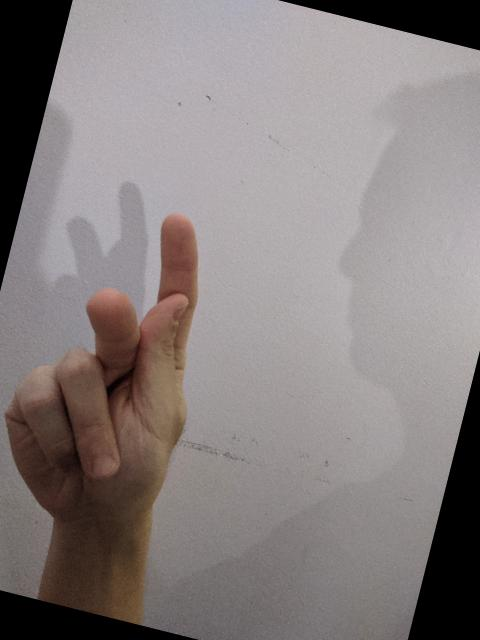K: (0, 174, 244, 555)
